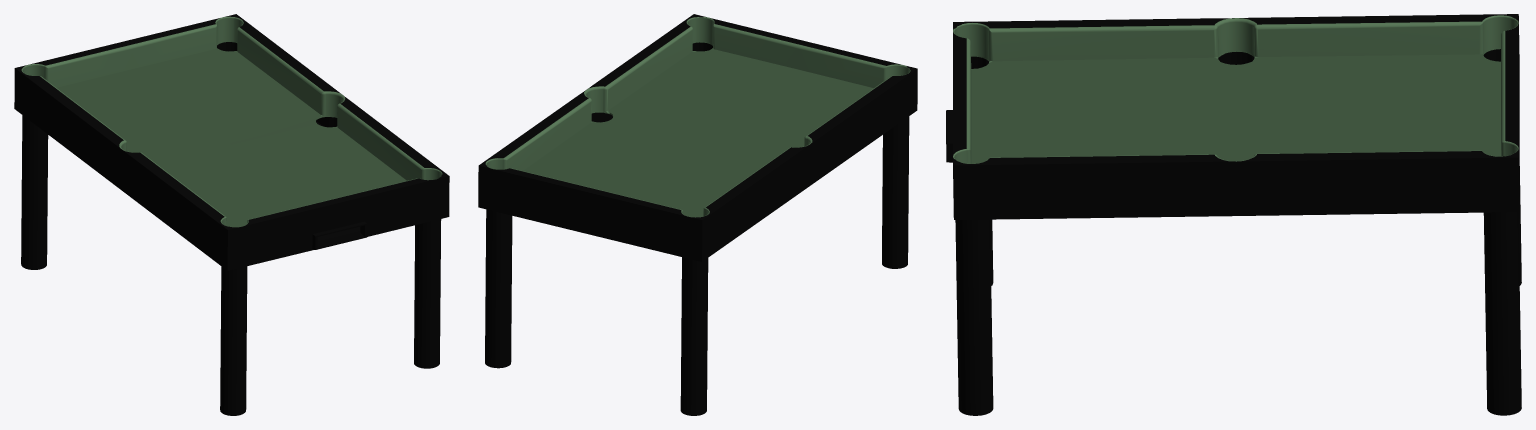
File: pooltable.fbx
3 views of the same model, side by side, from view 1: azimuth 30°, elevation 25°; view 2: azimuth 150°, elevation 25°; view 3: azimuth 270°, elevation 25° (orthographic). The views are drawn at different scales.
Visible parts, largest first — view 1: pCube13; view 2: pCube13; view 3: pCube13.
Part boxes in pixels (x1,y1,x2,y2): pCube13: (14, 14, 449, 415); pCube13: (478, 14, 917, 415); pCube13: (946, 14, 1521, 415).
Size of the model in its own units: 554 by 469 by 939.
